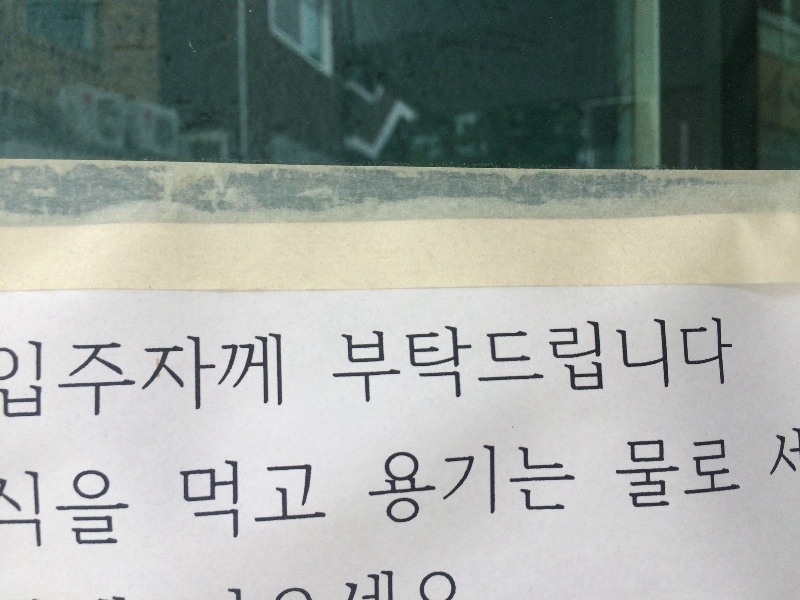text: (337, 313, 352, 408), (353, 313, 368, 408), (369, 313, 384, 408), (385, 313, 400, 408), (401, 313, 416, 408), (417, 313, 432, 408), (433, 313, 448, 408), (449, 313, 464, 408), (465, 313, 480, 408), (481, 313, 496, 408), (497, 313, 512, 408), (513, 313, 528, 408), (529, 313, 544, 408), (545, 313, 560, 408), (561, 313, 576, 408), (577, 313, 592, 408), (593, 313, 608, 408), (609, 313, 624, 408), (625, 313, 640, 408), (641, 313, 656, 408), (657, 313, 672, 408), (673, 313, 688, 408), (689, 313, 704, 408), (705, 313, 720, 408), (721, 313, 736, 408), (1, 332, 16, 422), (17, 332, 32, 422), (33, 332, 48, 422), (49, 332, 64, 422), (65, 332, 80, 422), (81, 332, 96, 422), (97, 332, 112, 422), (113, 332, 128, 422), (129, 332, 144, 422), (145, 332, 160, 422), (161, 332, 176, 422), (177, 332, 192, 422), (193, 332, 208, 422), (209, 332, 224, 422), (225, 332, 240, 422), (241, 332, 256, 422), (257, 332, 272, 422), (369, 437, 384, 526), (385, 437, 400, 526), (401, 437, 416, 526), (417, 437, 432, 526), (433, 437, 448, 526), (449, 437, 464, 526), (465, 437, 480, 526), (481, 437, 496, 526), (497, 437, 512, 526), (513, 437, 528, 526), (529, 437, 544, 526), (545, 437, 560, 526), (561, 437, 576, 526), (322, 313, 336, 408), (737, 313, 751, 408), (17, 467, 32, 551), (33, 467, 48, 551), (49, 467, 64, 551), (65, 467, 80, 551), (81, 467, 96, 551), (97, 467, 112, 551), (113, 467, 128, 551), (129, 467, 144, 551), (177, 460, 192, 541), (193, 460, 208, 541), (209, 460, 224, 541), (225, 460, 240, 541), (241, 460, 256, 541), (257, 460, 272, 541), (273, 460, 288, 541), (289, 460, 304, 541), (305, 460, 320, 541), (609, 434, 624, 514), (625, 434, 640, 514), (641, 434, 656, 514), (657, 434, 672, 514), (673, 434, 688, 514), (689, 434, 704, 514), (705, 434, 720, 514), (721, 434, 736, 514), (2, 467, 16, 551), (273, 332, 284, 422), (321, 460, 333, 541), (785, 426, 800, 480), (241, 565, 256, 600), (257, 565, 272, 600), (273, 565, 288, 600), (289, 565, 304, 600), (305, 565, 320, 600), (321, 565, 336, 600), (337, 565, 352, 600), (353, 565, 368, 600), (369, 565, 384, 600), (385, 565, 400, 600), (401, 565, 416, 600), (417, 565, 432, 600), (433, 565, 448, 600), (775, 426, 784, 480), (737, 434, 743, 514), (229, 565, 240, 600), (449, 565, 456, 600), (577, 437, 578, 526)
